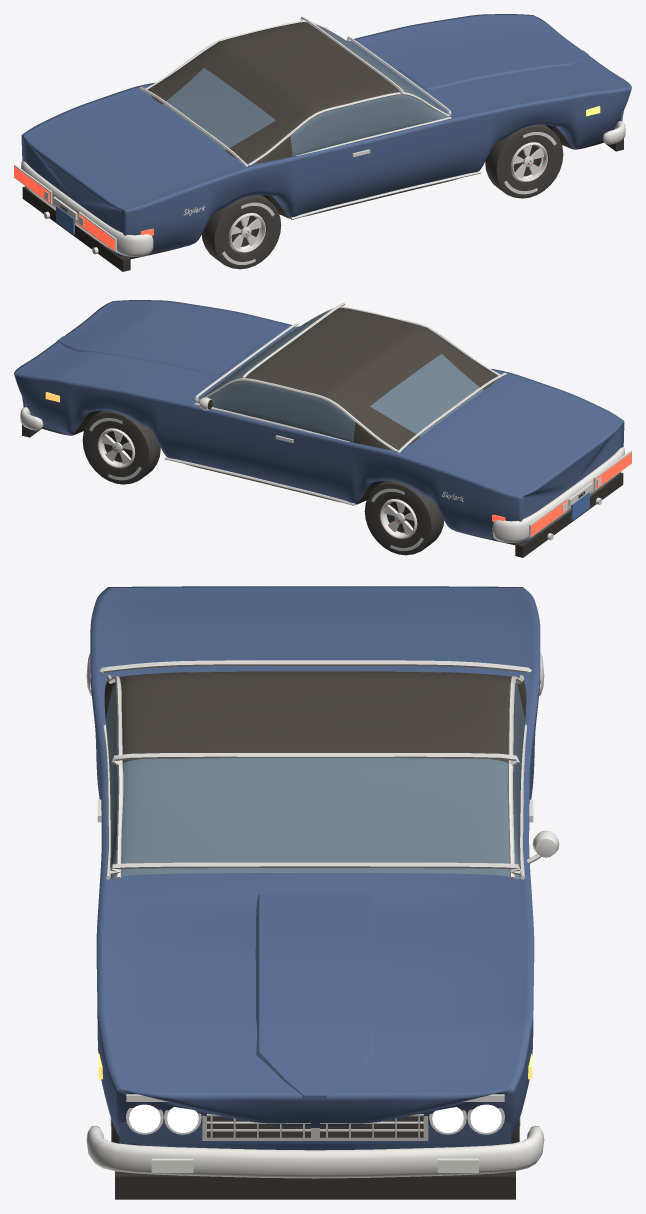
File: skylark.glb
3 views of the same model, one above another, from view 1: azimuth 30°, elevation 25°; view 2: azimuth 150°, elevation 25°; view 3: azimuth 270°, elevation 25° (orthographic). The views are drawn at different scales.
Visible parts, largest first — view 1: Body, Glass, Details, Wheel_RR, Wheel_FR, Trim, Bumpers; view 2: Body, Glass, Details, Wheel_RL, Wheel_FL, Trim, Bumpers; view 3: Body, Glass, Details, Bumpers, Trim.
Boxes of the visible parts, x1,y1,x2,y2 form: Body: (21,14,631,258); Glass: (147,22,448,164); Details: (14,43,623,271); Wheel_RR: (201,195,281,269); Wheel_FR: (485,124,563,198); Trim: (43,16,481,254); Bumpers: (21,121,625,256); Body: (14,300,624,544); Glass: (197,308,498,450); Details: (22,329,631,557); Wheel_RL: (364,481,444,555); Wheel_FL: (82,410,160,484); Trim: (164,302,602,540); Bumpers: (20,407,624,542); Body: (90,586,540,1150); Glass: (104,670,526,879); Details: (98,894,532,1199); Bumpers: (86,652,544,1178); Trim: (90,658,559,1101).
Bounding box in the file's own units: 5.23 × 1.35 × 2.05.
